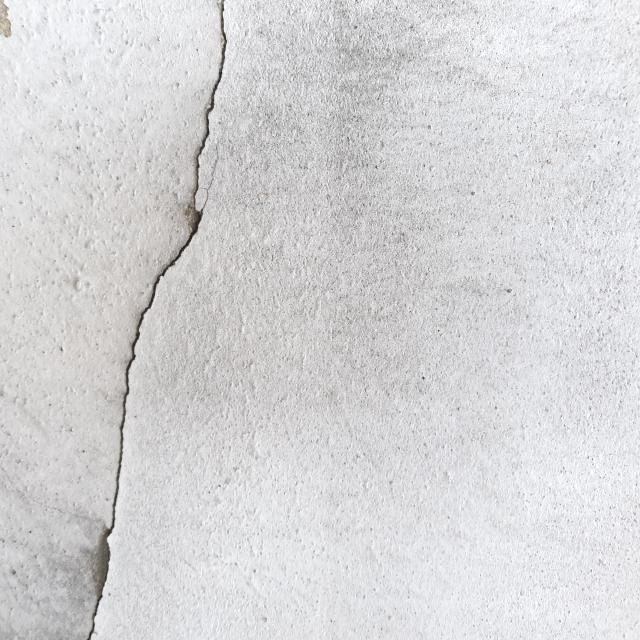SurfaceCrack: (64, 0, 262, 640)
